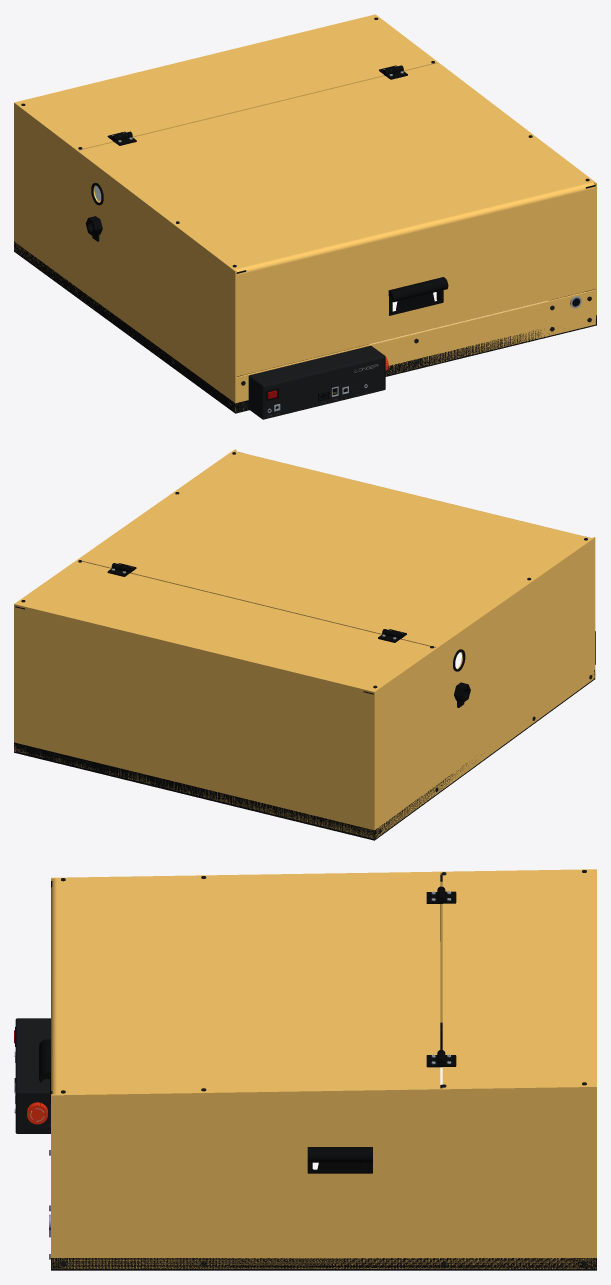
3 views of the same model, one above another, from view 1: azimuth 30°, elevation 25°; view 2: azimuth 150°, elevation 25°; view 3: azimuth 270°, elevation 25° (orthographic). The views are drawn at different scales.
Parts seen in each view (by area): view 1: lid_bent_amber_front_and_roof, body_left_amber_panel, body_fixed_rear_amber_roof, body_front_fixed_amber_apron, controller_front_fascia, controller_hollow_case, body_lower_left_rail, body_lower_front_rail, lid_pull_curved_upper_grip, body_right_amber_panel; view 2: lid_bent_amber_front_and_roof, UNKNOWN_REAR_plain_amber_continuation, body_left_amber_panel, body_fixed_rear_amber_roof, body_lower_rear_rail, body_lower_left_rail, body_right_amber_panel; view 3: body_right_amber_panel, lid_bent_amber_front_and_roof, body_fixed_rear_amber_roof, body_lower_right_rail, controller_hollow_case, body_left_amber_panel, right_side_pull_curved_upper_grip.
Part boxes in pixels (box(x1,y1,x2,y2)): lid_bent_amber_front_and_roof: box(79, 63, 595, 376); body_left_amber_panel: box(14, 102, 236, 411); body_fixed_rear_amber_roof: box(16, 14, 436, 150); body_front_fixed_amber_apron: box(237, 289, 595, 409); controller_front_fascia: box(264, 357, 384, 418); controller_hollow_case: box(244, 344, 385, 419); body_lower_left_rail: box(20, 246, 228, 408); body_lower_front_rail: box(229, 315, 596, 413); lid_pull_curved_upper_grip: box(388, 277, 448, 302); body_right_amber_panel: box(374, 14, 596, 324); lid_bent_amber_front_and_roof: box(79, 451, 591, 647); UNKNOWN_REAR_plain_amber_continuation: box(15, 607, 372, 838); body_left_amber_panel: box(373, 537, 595, 838); body_fixed_rear_amber_roof: box(15, 561, 434, 693); body_lower_rear_rail: box(14, 742, 380, 840); body_lower_left_rail: box(381, 683, 588, 835); body_right_amber_panel: box(14, 449, 236, 751); body_right_amber_panel: box(51, 1086, 596, 1269); lid_bent_amber_front_and_roof: box(51, 872, 440, 1094); body_fixed_rear_amber_roof: box(442, 870, 596, 1088); body_lower_right_rail: box(66, 1258, 581, 1270); controller_hollow_case: box(15, 1018, 50, 1133); body_left_amber_panel: box(51, 869, 596, 1022); right_side_pull_curved_upper_grip: box(307, 1147, 372, 1162).
Size of the model in its own units: 0.689 by 0.2666 by 0.7472.
Materials: 20 (3 with a texture image).
